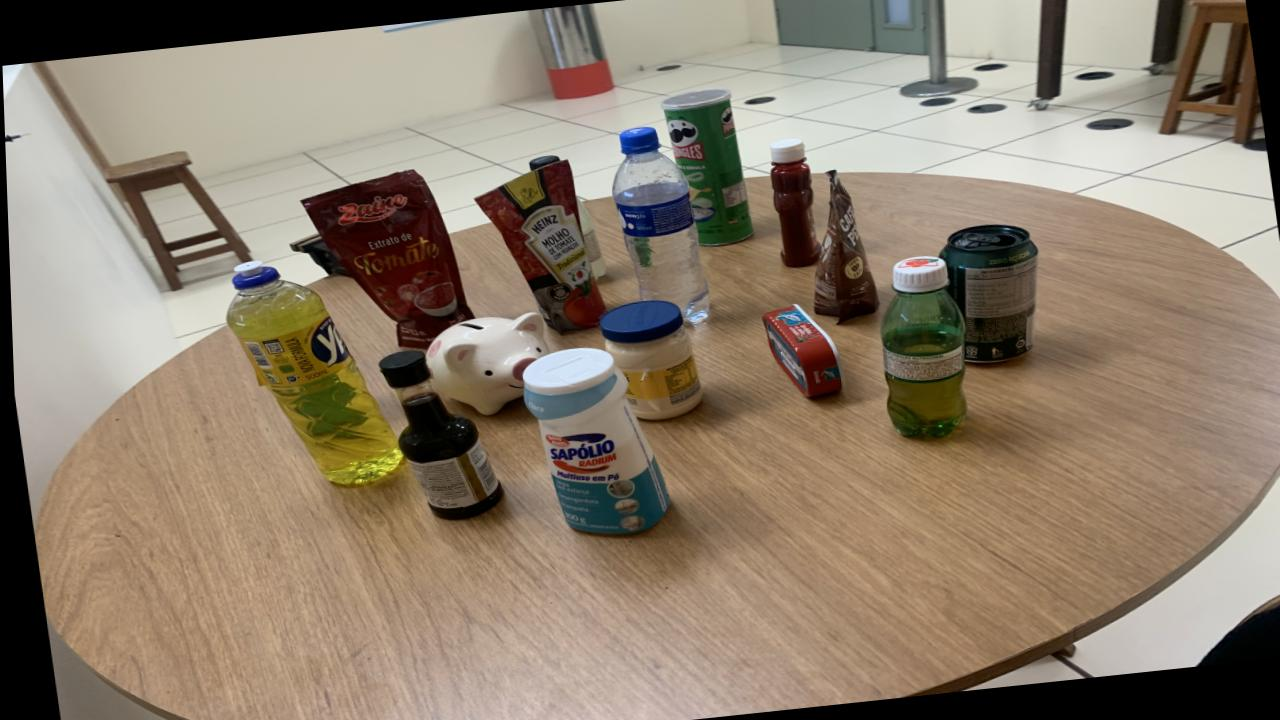Cleaner-Cleanup_Items: (519, 347, 665, 534)
Coffee-Pantry_Items: (811, 169, 877, 321)
Detergent-Cleanup_Items: (224, 263, 399, 485)
English_Sauce-Pantry_Items: (377, 349, 500, 520)
Guarana-Drinks: (877, 256, 964, 437)
Guarana_Can-Drinks: (938, 223, 1036, 362)
Ketchup-Pantry_Items: (769, 138, 820, 268)
Mayonnaise-Pantry_Items: (597, 299, 700, 420)
Pig_Safe-Miscellaneous: (423, 312, 546, 415)
Pringles-Snacks: (661, 88, 752, 246), (661, 88, 752, 245)
Tomato_Sauce-Pantry_Items: (300, 170, 471, 348), (473, 159, 604, 332)
Tuna_Can-Pantry_Items: (760, 303, 842, 397)
Water_Bottle-Drinks: (610, 126, 707, 322)
